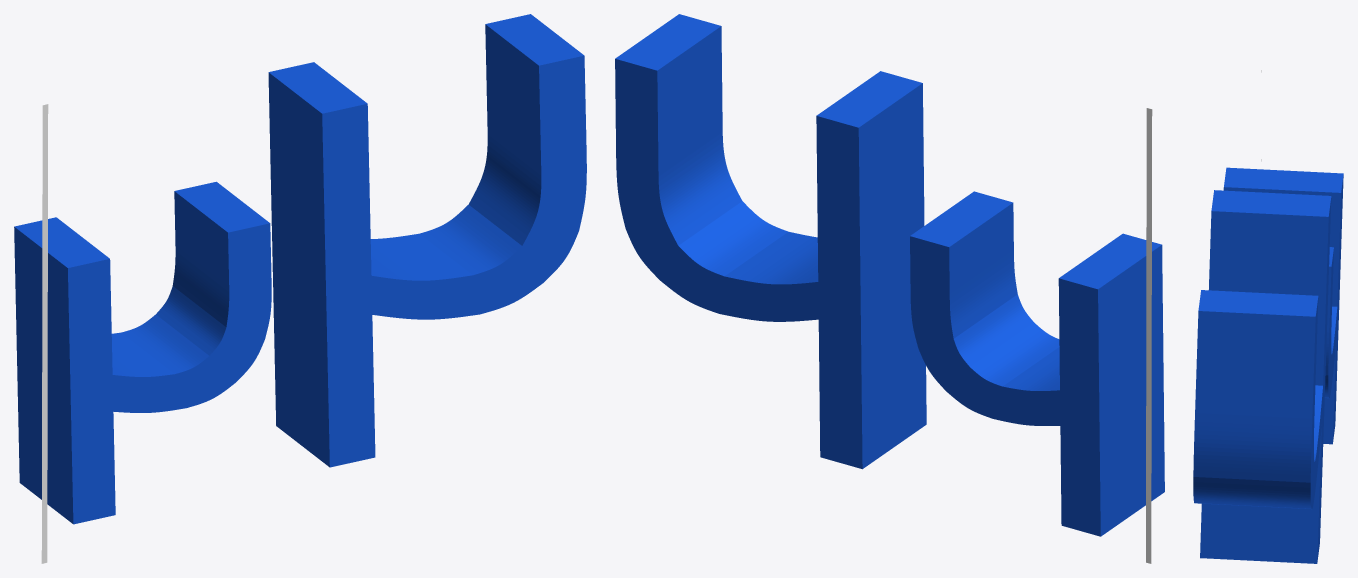
3 views of the same model, side by side, from view 1: azimuth 30°, elevation 25°; view 2: azimuth 150°, elevation 25°; view 3: azimuth 270°, elevation 25° (orthographic).
Visible parts, largest first — view 1: Mesh_0.029, Плоскость; view 2: Mesh_0.029, Плоскость; view 3: Mesh_0.029.
Boxes of the visible parts, bbox=[...] form: Mesh_0.029: bbox=[14, 14, 586, 524]; Плоскость: bbox=[41, 104, 48, 563]; Mesh_0.029: bbox=[615, 14, 1164, 536]; Плоскость: bbox=[1146, 108, 1152, 563]; Mesh_0.029: bbox=[1193, 167, 1343, 563].
Bounding box in the file's own units: 11.04 × 9.38 × 2.82.
